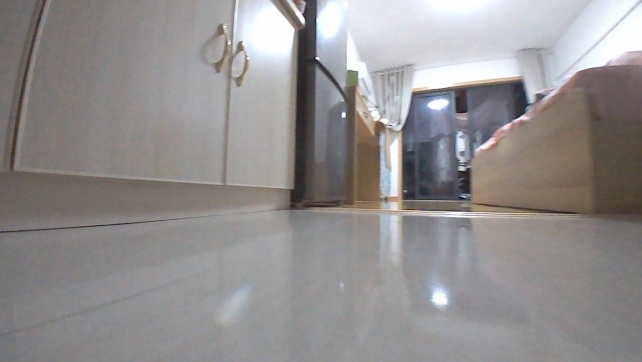bed1: (466, 45, 641, 217)
refrigerator: (293, 0, 351, 209)
